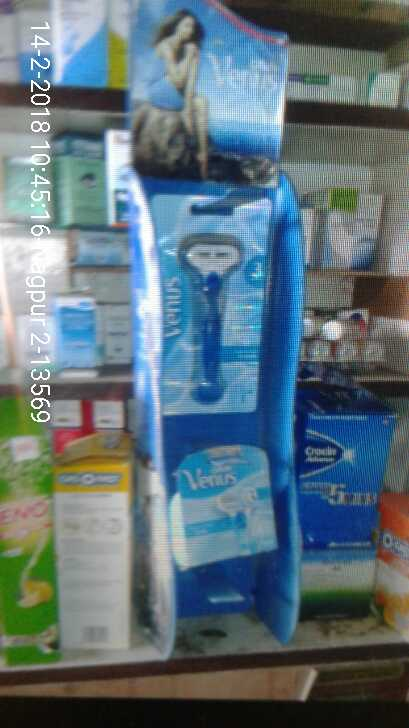venus: (147, 188, 258, 414), (167, 449, 280, 564)
